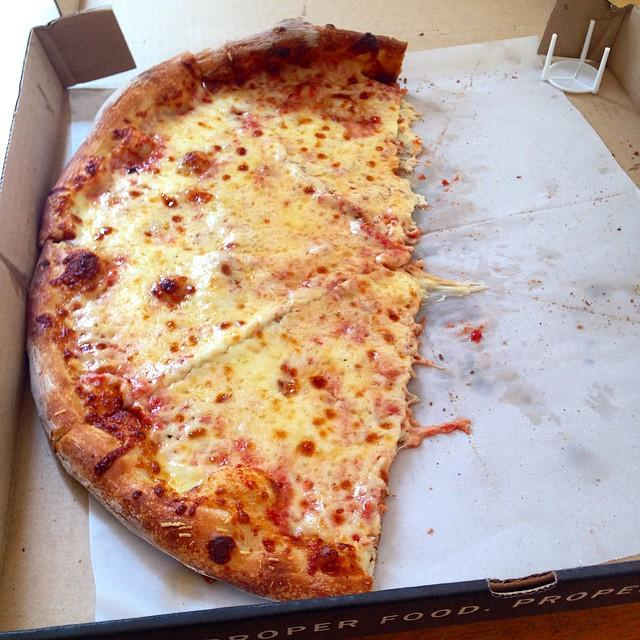Pizza: (37, 21, 418, 600)
